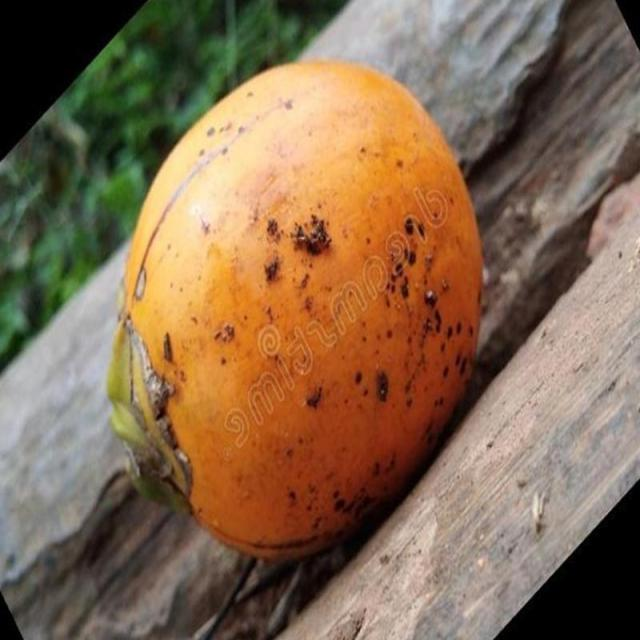good: (103, 61, 484, 566)
